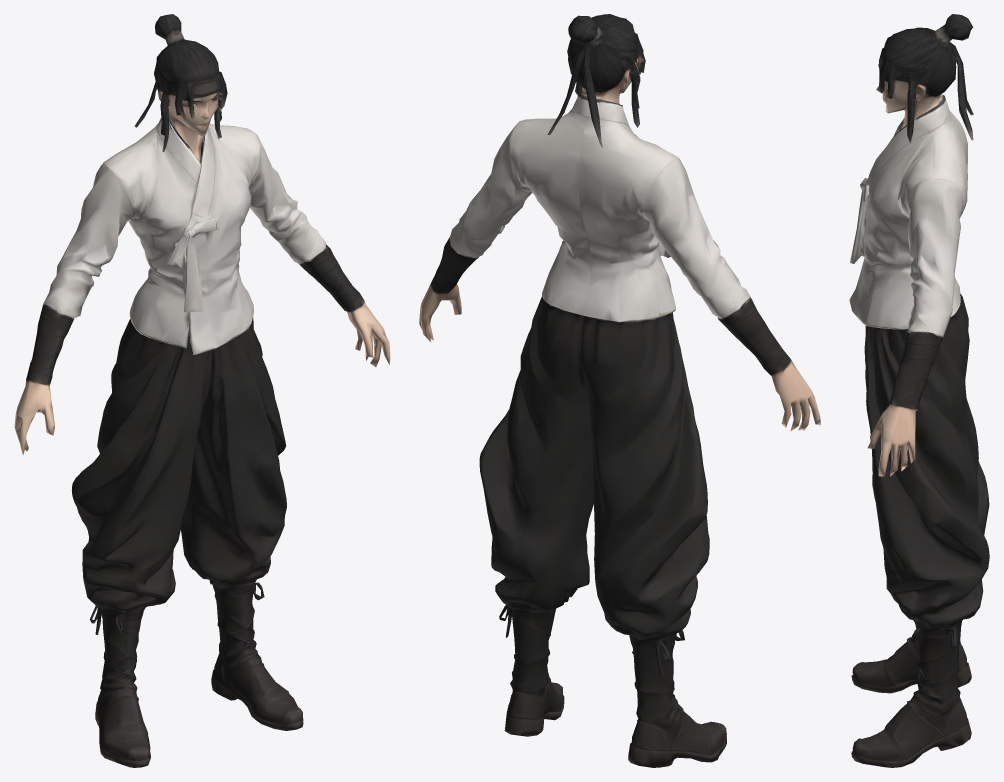
Rendered from body_6f422034_raw.glb.
3 renders of one model, left to right at view 1: azimuth 30°, elevation 25°; view 2: azimuth 150°, elevation 25°; view 3: azimuth 270°, elevation 25°, orthographic. The views are drawn at different scales.
Parts seen in each view (by area): view 1: tripo_node_7946729d-6ae5-4b69-a17f-75df53093e85; view 2: tripo_node_7946729d-6ae5-4b69-a17f-75df53093e85; view 3: tripo_node_7946729d-6ae5-4b69-a17f-75df53093e85.
Part boxes in pixels (<box>): tripo_node_7946729d-6ae5-4b69-a17f-75df53093e85: <box>14,14,390,767</box>; tripo_node_7946729d-6ae5-4b69-a17f-75df53093e85: <box>419,14,820,767</box>; tripo_node_7946729d-6ae5-4b69-a17f-75df53093e85: <box>849,14,989,767</box>.
Bounding box in the file's own units: 0.5446 × 0.9809 × 0.1767.
Materials: 1 (1 with a texture image).
